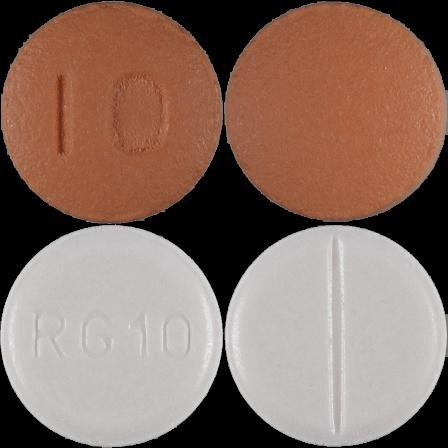10544-543: (0, 0, 224, 224)
